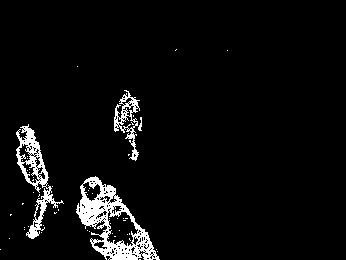person: (76, 176, 160, 260), (15, 124, 61, 239), (114, 88, 143, 165)
